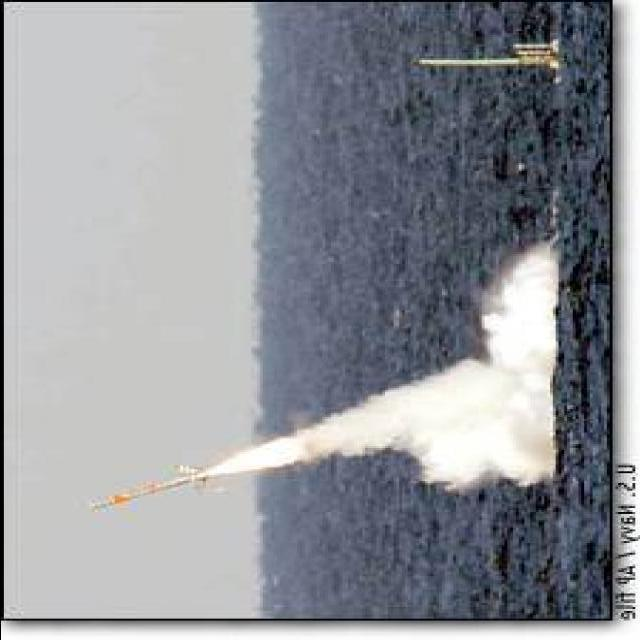missile: (86, 468, 208, 519)
